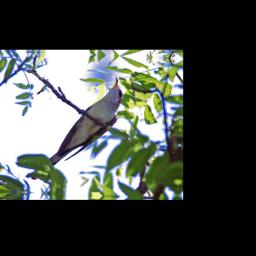Cuckoo: (30, 72, 124, 184)
